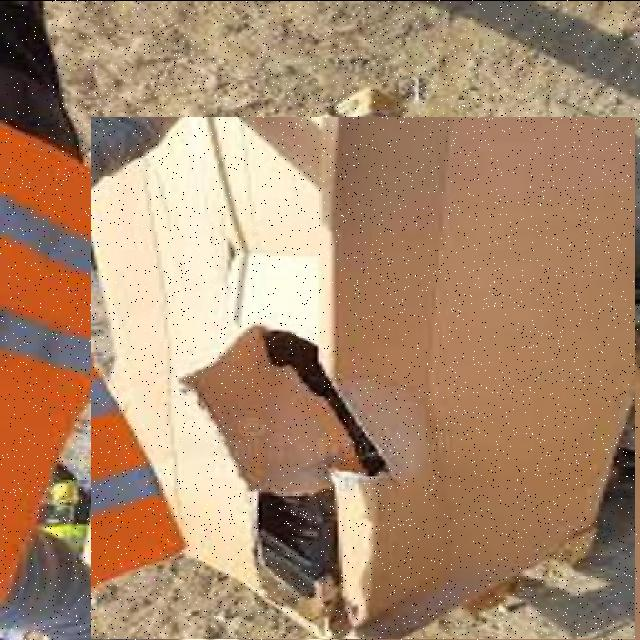defect: (91, 116, 635, 638)
